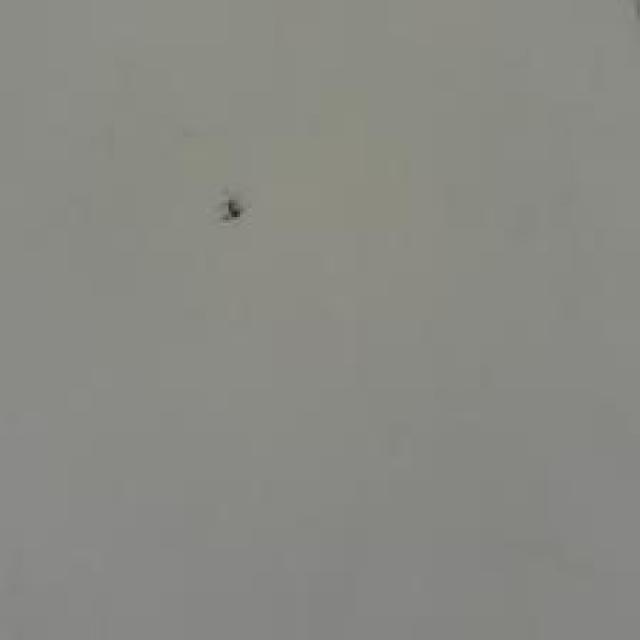Aedes albopictus: (223, 197, 243, 220)
